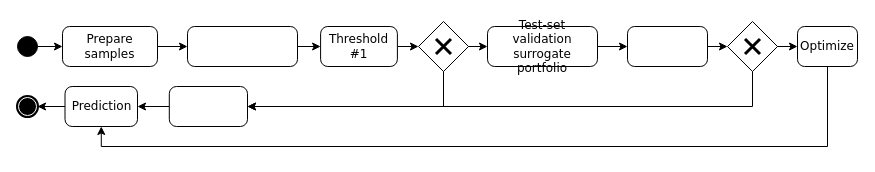
Some shapes in this 875 by 172 pixel diagram are drawn without their labels. Here are the shapes that lost their labels. From the top down, the box of each, then its label:
(186, 26, 298, 66): Cross-validation surrogate portfolio
(626, 26, 708, 66): Threshold #2
(168, 86, 248, 126): Sampling plan
